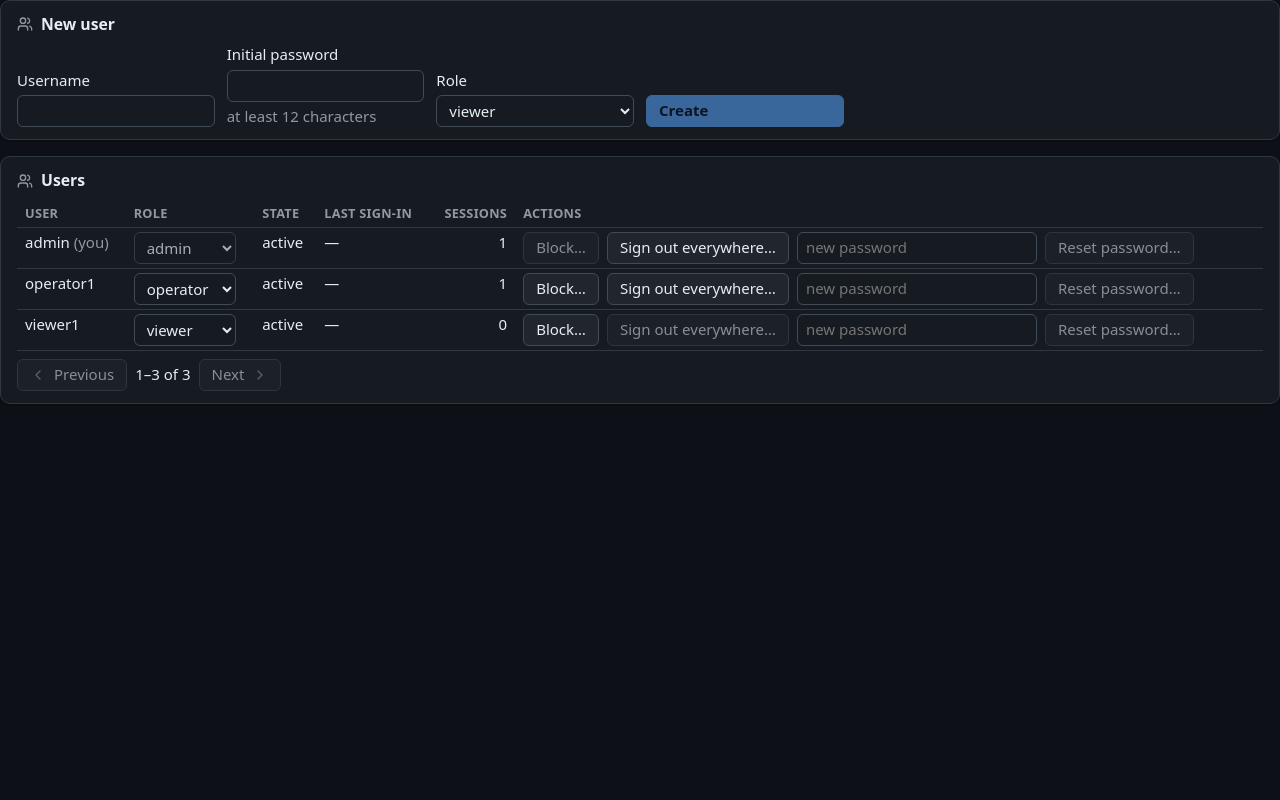
it: UsersScreen › signs a user out everywhere and shows a refusal
Click the button "Sign out everywhere…" in the row of "operator1": (698, 289) [607,273,789,305]
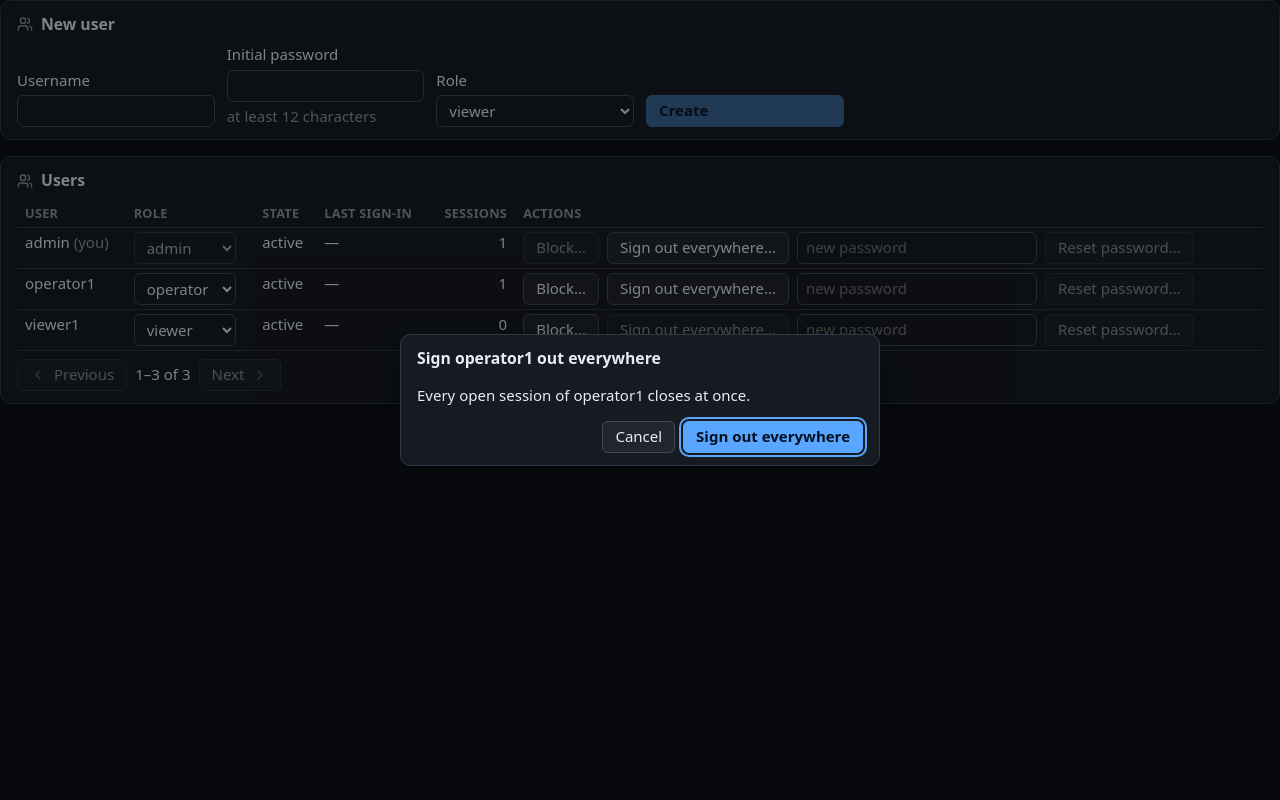
Click the button "Sign out everywhere": (773, 437) [683,421,863,453]
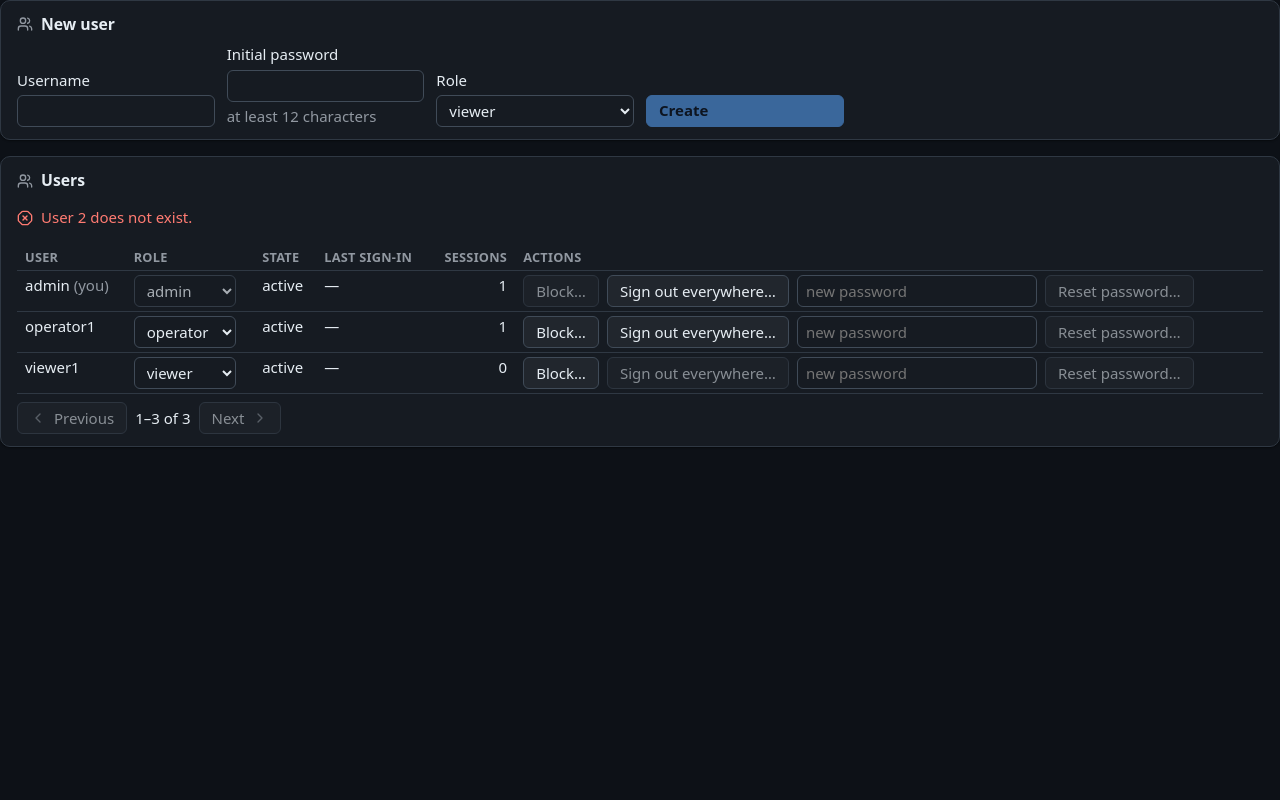
Result: the message reads "User 2 does not exist." at [41,207,192,227]
